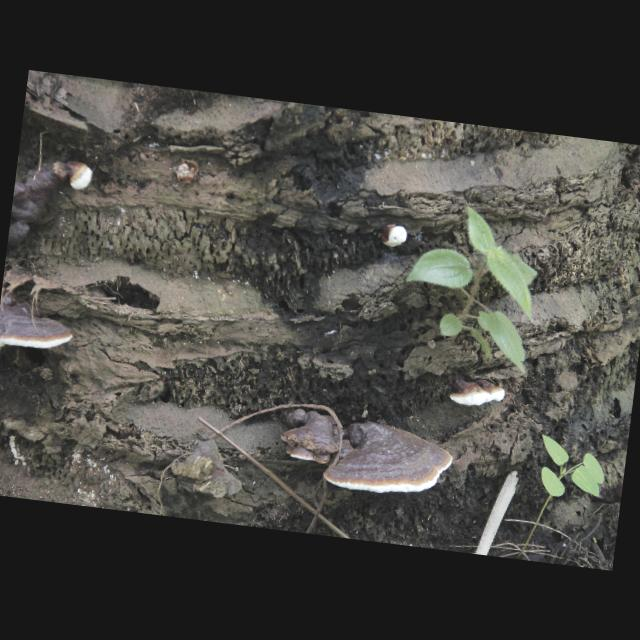ganoderma: (322, 418, 458, 504), (8, 157, 67, 253), (1, 291, 77, 357), (276, 407, 346, 467), (448, 376, 507, 412)
primordium: (65, 161, 96, 192), (379, 223, 409, 250)
